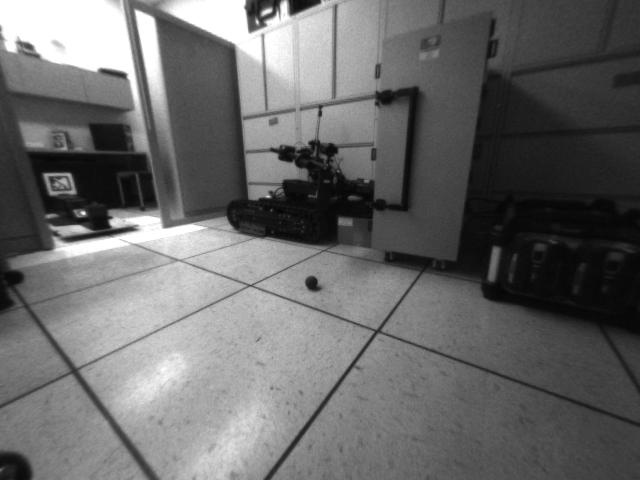dogtoy: (301, 271, 328, 294)
